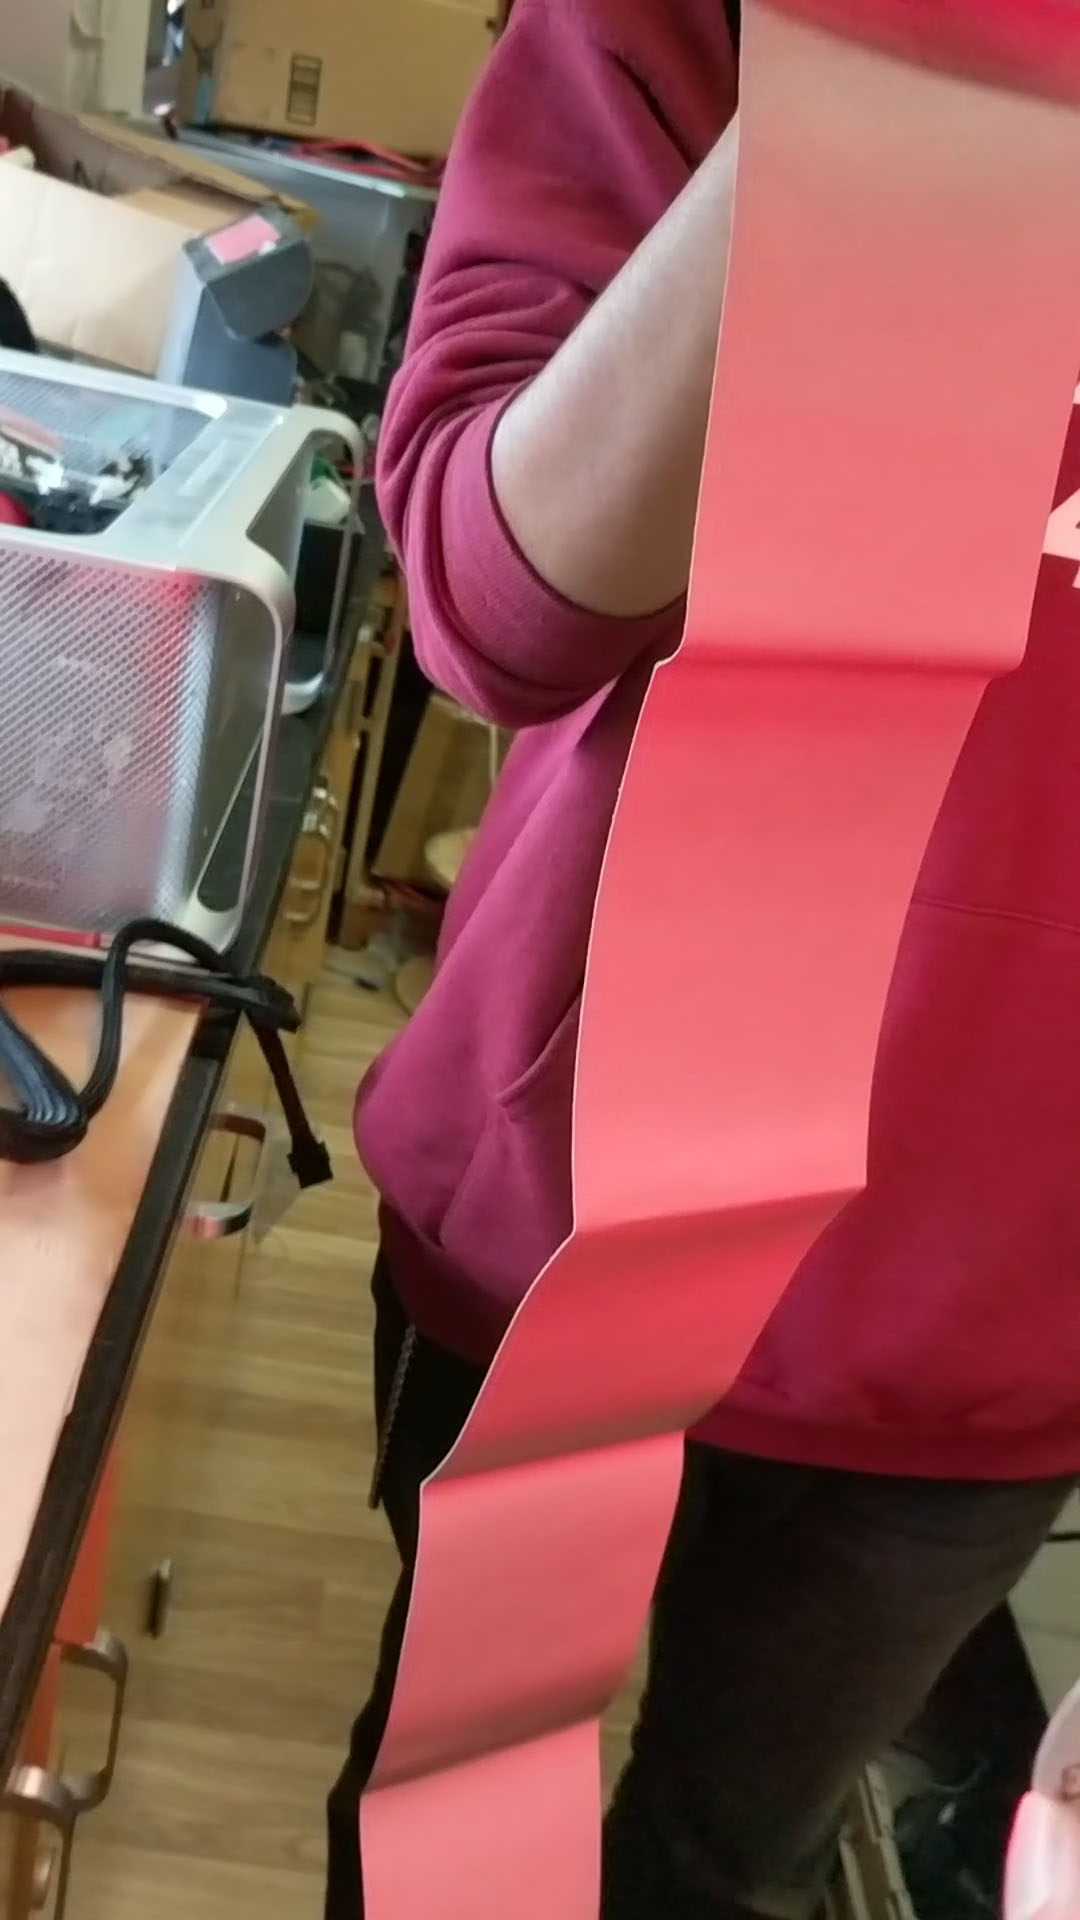gear: (364, 0, 1080, 1920)
